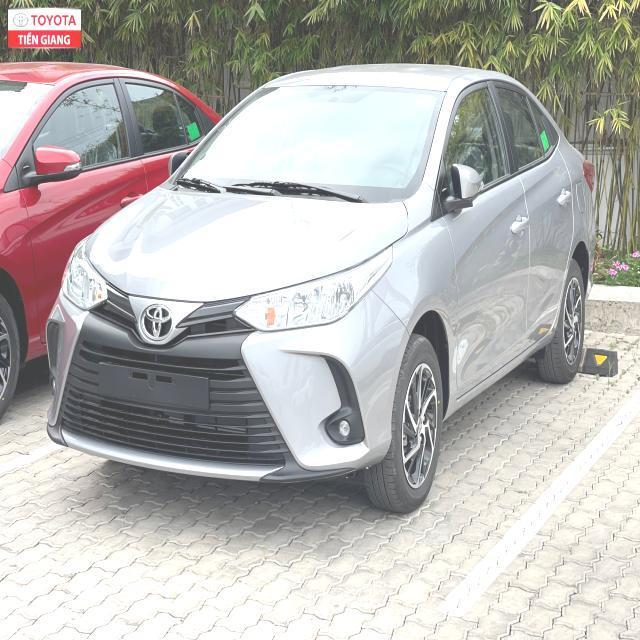ToyotaVios: (42, 60, 597, 514)
